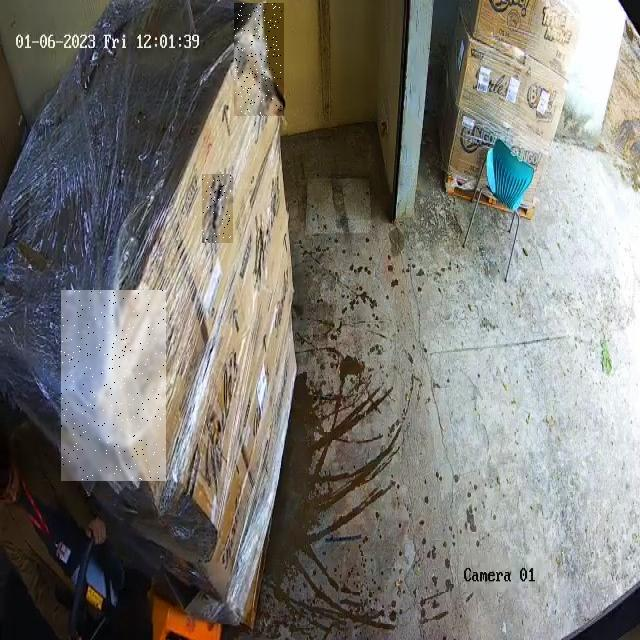leakage: (203, 174, 231, 242)
squeeze: (62, 290, 164, 480), (235, 4, 282, 114)
